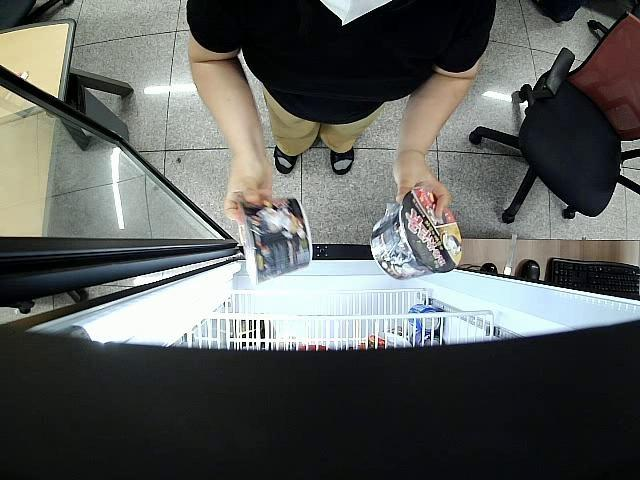07_buldak_L: (371, 188, 462, 280), (236, 198, 312, 284)
